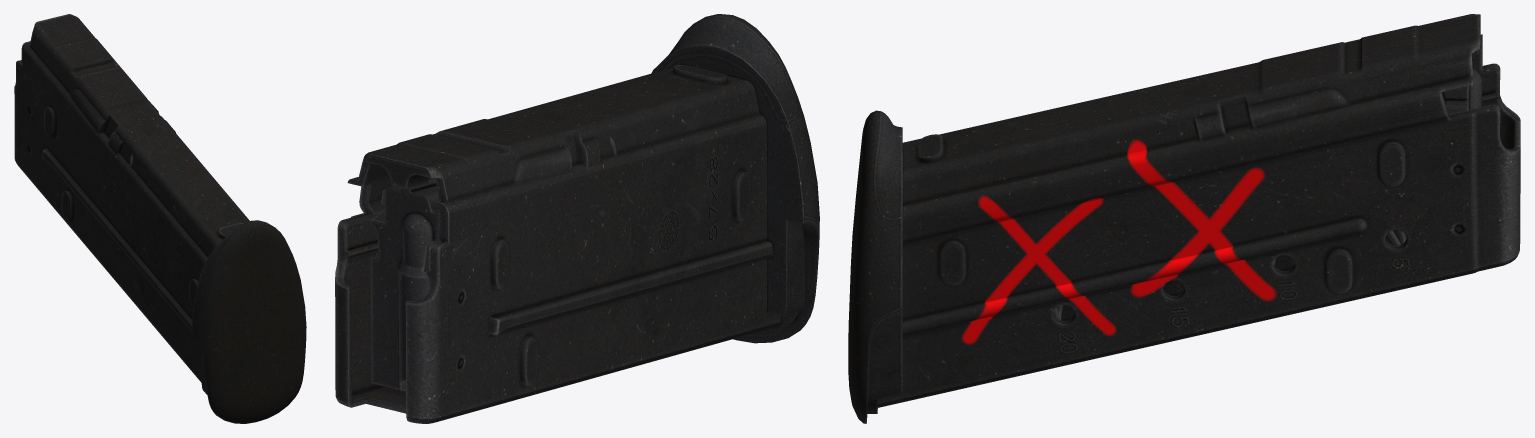
The model's file is fn57_low_cap_mag.fbx.
3 renders of one model, left to right at view 1: azimuth 30°, elevation 25°; view 2: azimuth 150°, elevation 25°; view 3: azimuth 270°, elevation 25°, orthographic. The views are drawn at different scales.
Parts seen in each view (by area): view 1: fn57_low_cap_mag, mag_57_fn_five_seven_std_57x28_20_LOD0.003; view 2: fn57_low_cap_mag, mag_57_fn_five_seven_std_57x28_20_LOD0.003, Mag Follower.001; view 3: fn57_low_cap_mag, mag_57_fn_five_seven_std_57x28_20_LOD0.003, Mag Follower.001.
Boxes of the visible parts, x1,y1,x2,y2 form: fn57_low_cap_mag: (14,14,249,382); mag_57_fn_five_seven_std_57x28_20_LOD0.003: (191,220,306,423); fn57_low_cap_mag: (335,65,780,423); mag_57_fn_five_seven_std_57x28_20_LOD0.003: (651,14,819,343); Mag Follower.001: (370,177,438,391); fn57_low_cap_mag: (878,14,1520,407); mag_57_fn_five_seven_std_57x28_20_LOD0.003: (848,110,902,423); Mag Follower.001: (1442,69,1482,114).
Bounding box in the file's own units: 0.0327 × 0.0757 × 0.1192.
